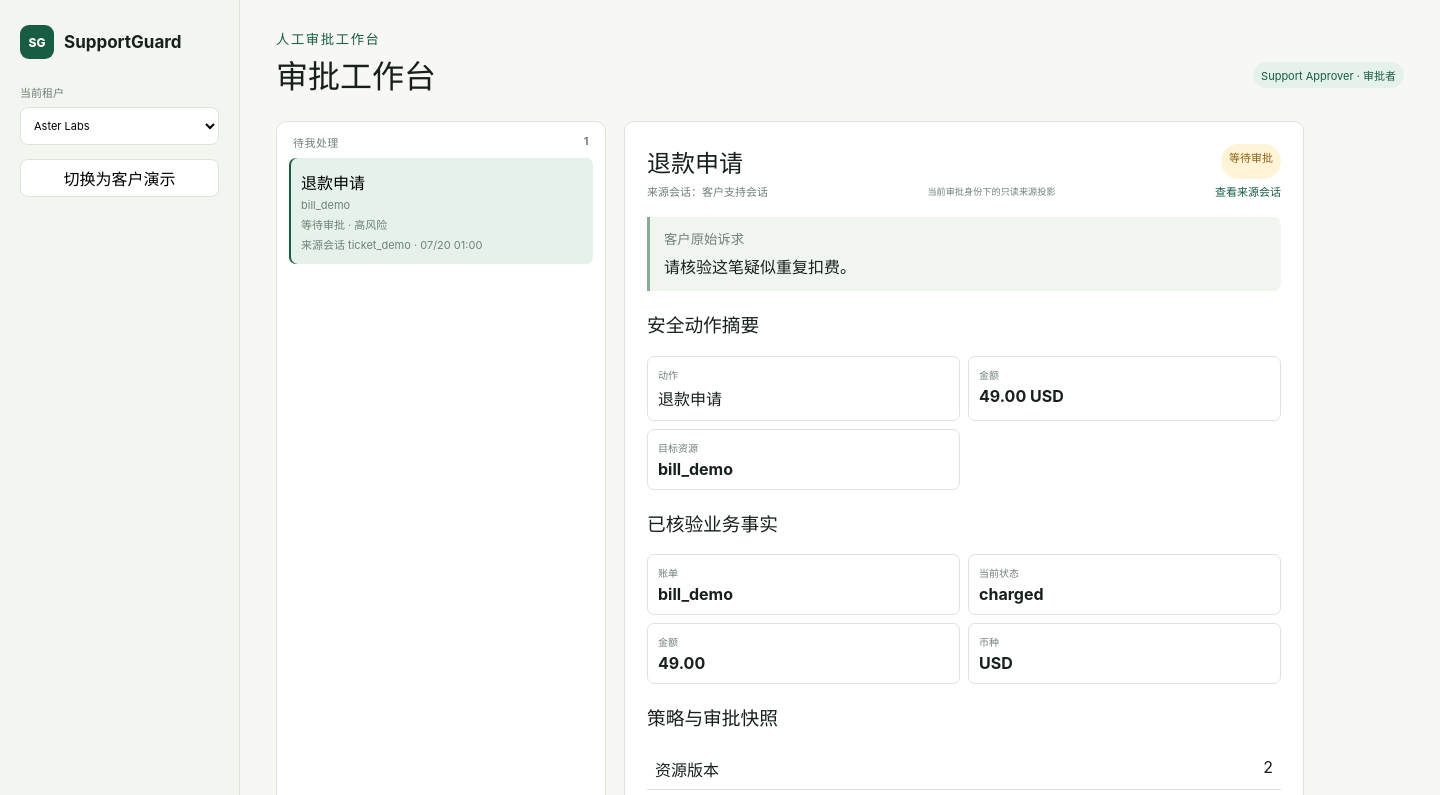
Test case: Conversation-first product experience › keeps the current source window when an older cursor is rejected
Click the button "查看来源会话".
click(1248, 191)  # box [1215, 179, 1281, 203]
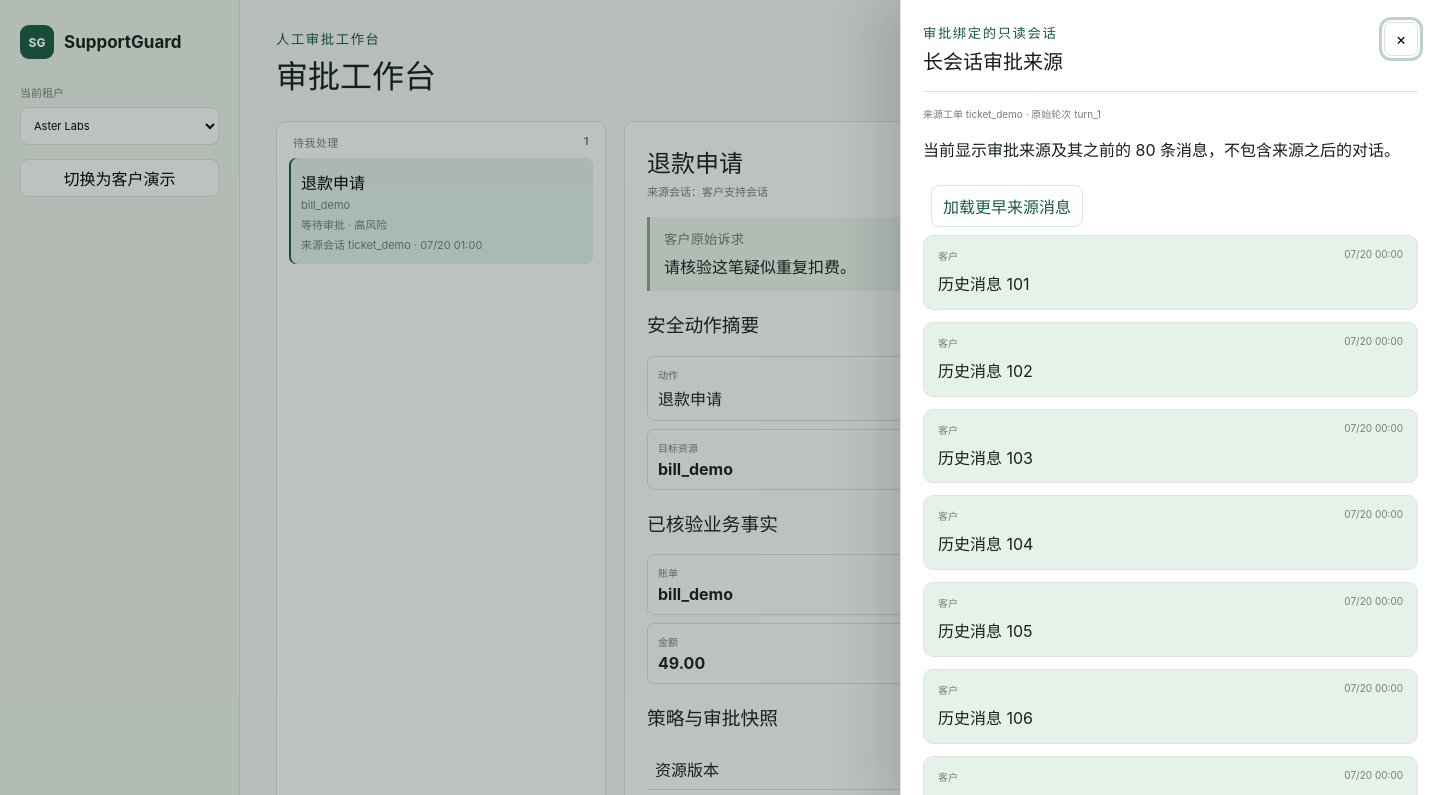
Click the button "加载更早来源消息".
click(1007, 206)  # box [931, 185, 1083, 227]
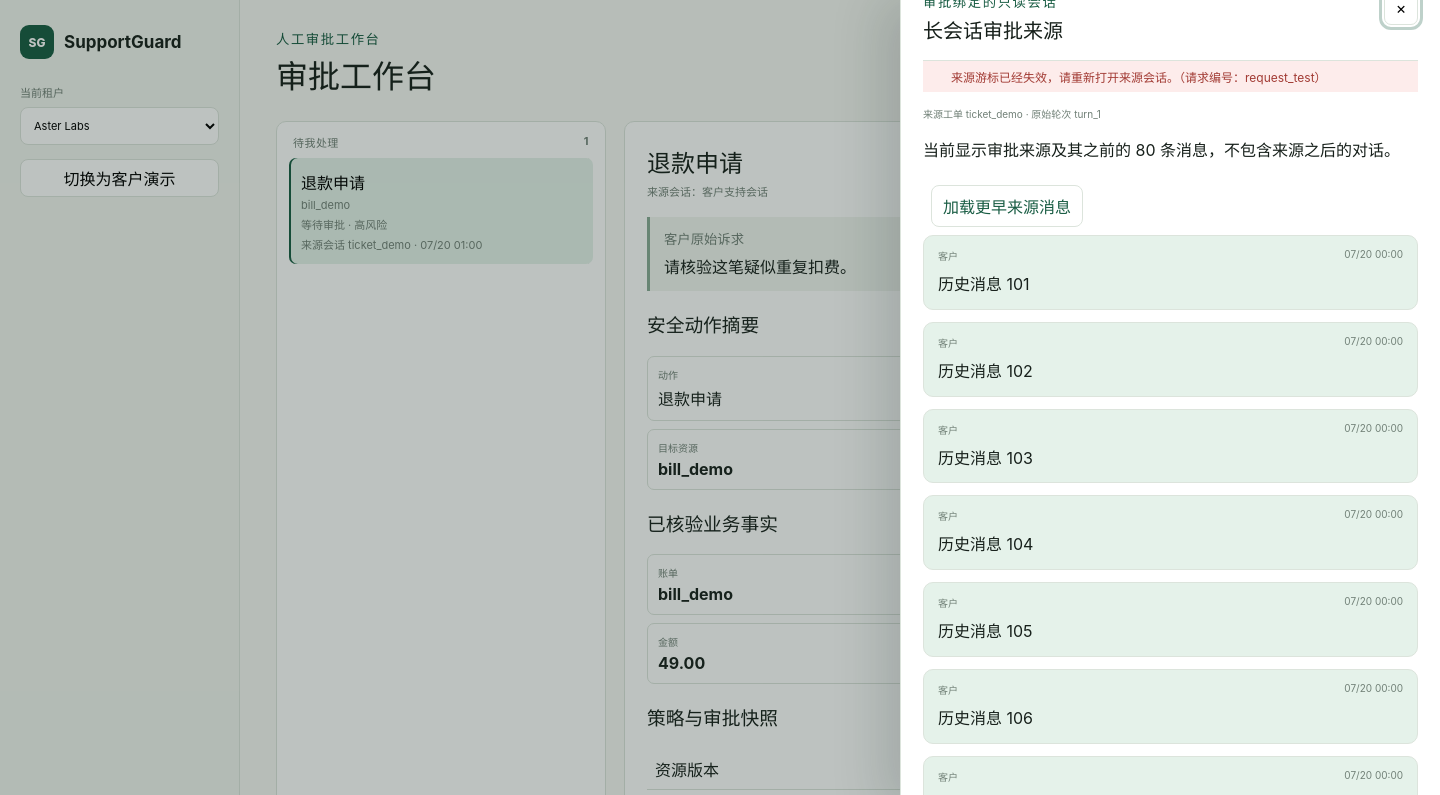
Now the button "加载更早来源消息" is enabled, box [931, 185, 1083, 227]
Now the text "来源游标已经失效，请重新打开来源会话。（请求编号：request_test）" is shown, box [923, 61, 1418, 92]
